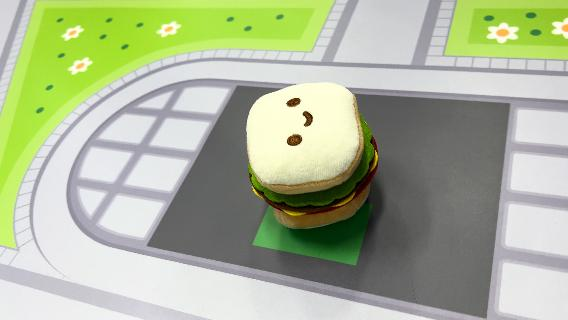sandwich: (244, 80, 380, 230)
